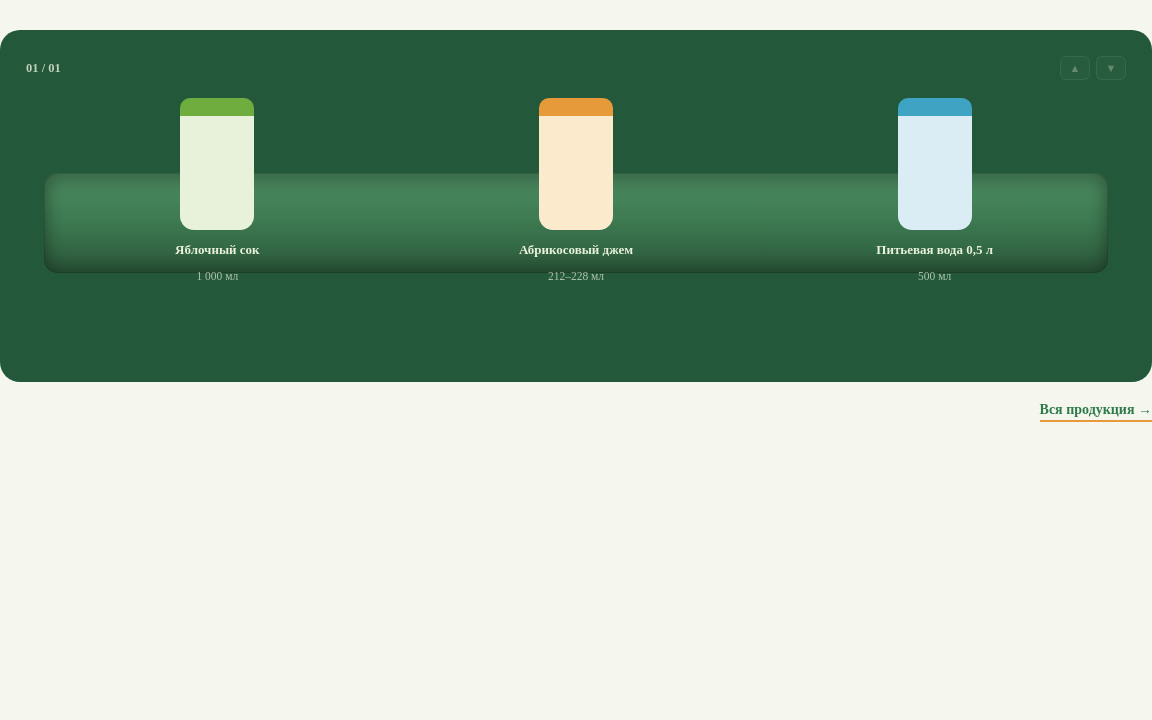
Test: Product quick-look › opens from a slot on the belt rather than navigating away
Click the text "Яблочный сок": coordinates (217, 250) [175,242,260,258]
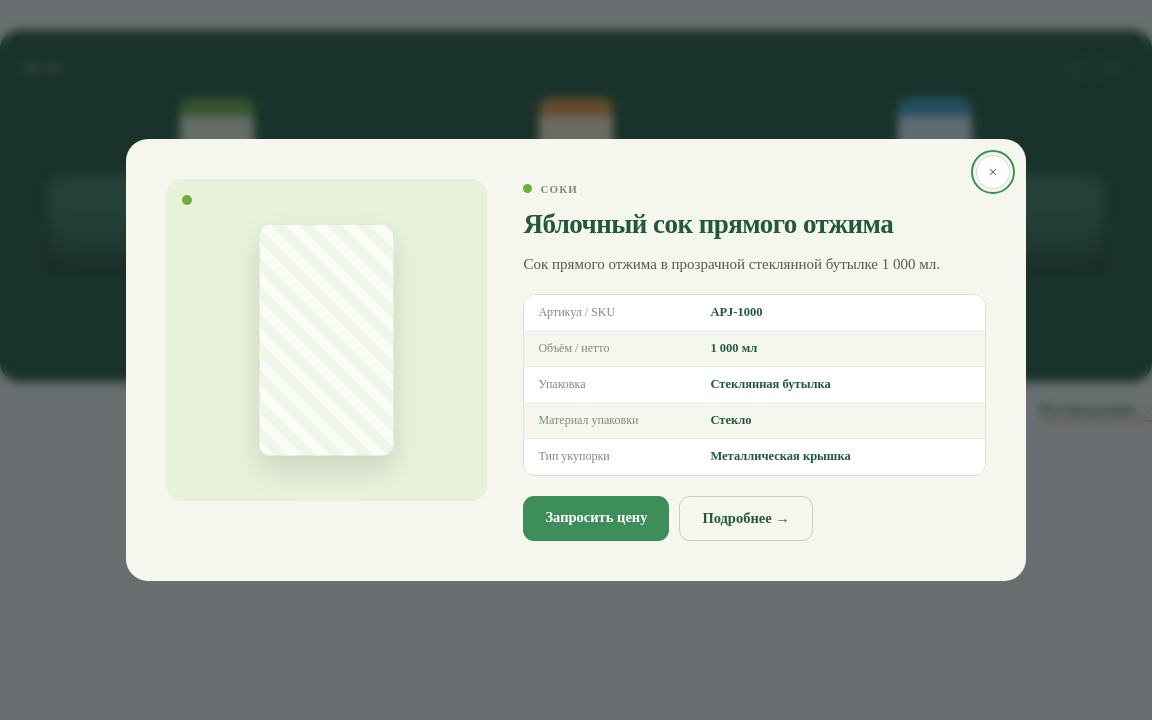
expect the heading "Яблочный сок прямого отжима" is shown: met, box [523,209,893,239]
